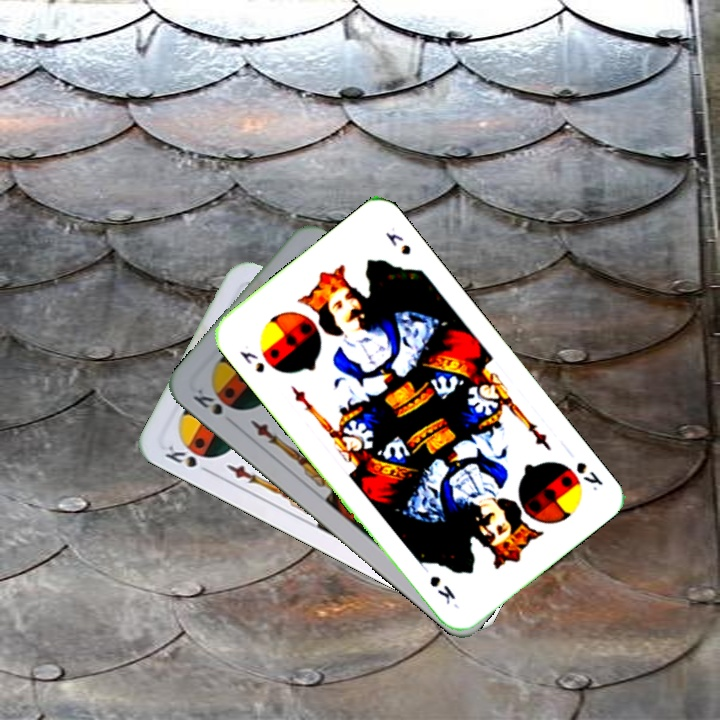SK: (161, 440, 217, 477), (188, 384, 226, 418), (572, 457, 606, 494), (235, 346, 268, 376)
